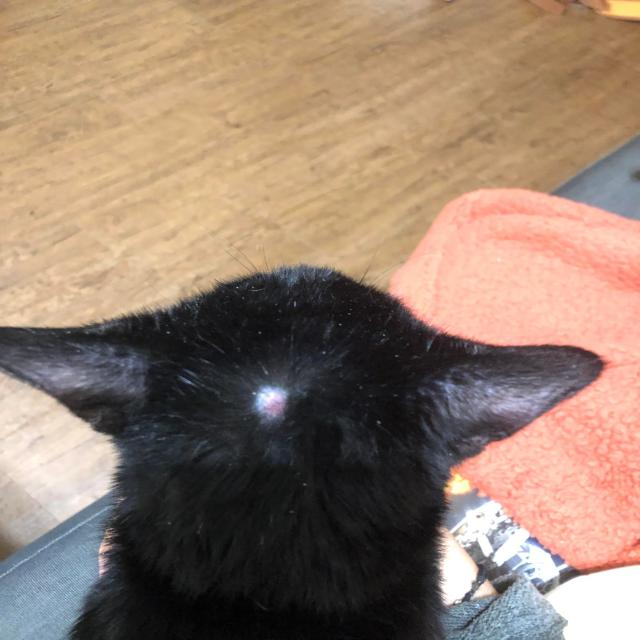cat-lump-and-bump: (246, 381, 295, 427)
